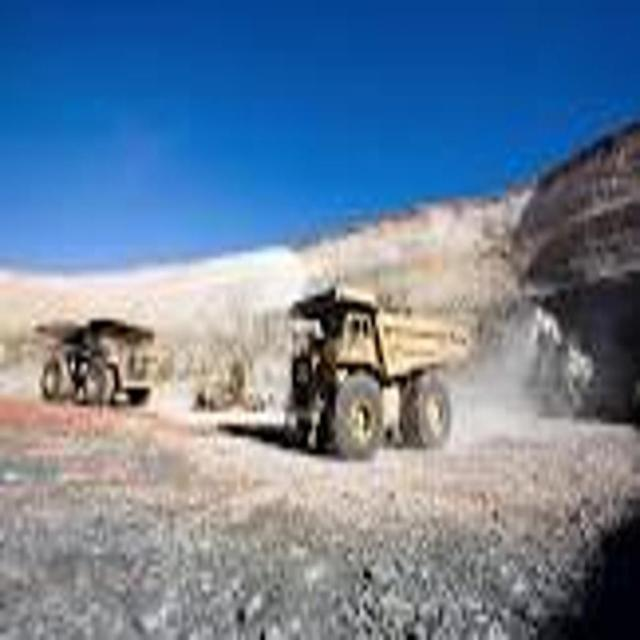dump_truck: (292, 259, 474, 488)
